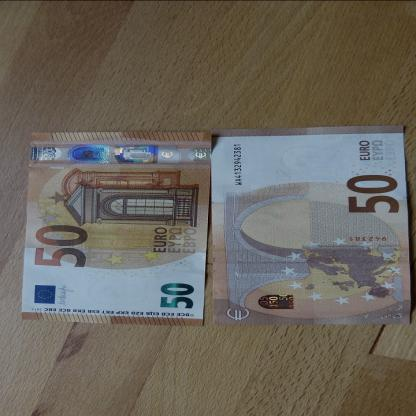euro_banknote: (211, 129, 410, 326), (19, 134, 214, 319)
